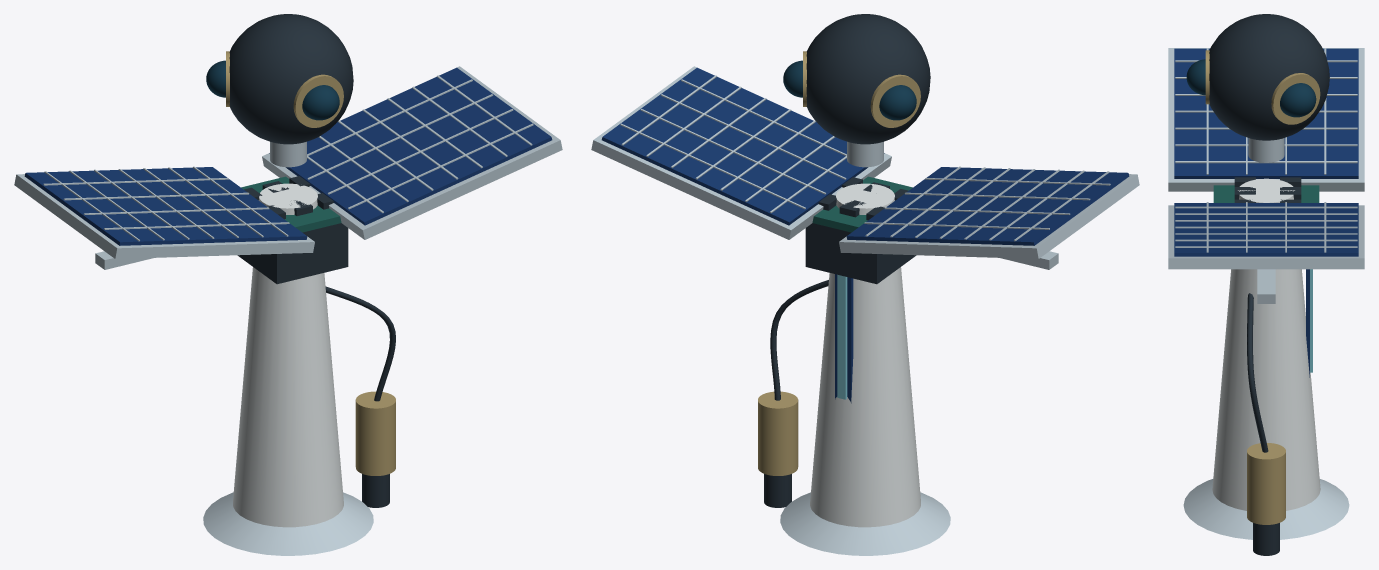
Rendered from deep.glb.
3 renders of one model, left to right at view 1: azimuth 30°, elevation 25°; view 2: azimuth 150°, elevation 25°; view 3: azimuth 270°, elevation 25°, orthographic. The views are drawn at different scales.
Parts seen in each view (by area): view 1: solar, mast, head, battery, probe; view 2: solar, mast, head, battery, probe; view 3: solar, mast, head, probe, battery.
Part boxes in pixels (left/top/right/bottom): solar: left=14, top=66, right=562, bottom=269; mast: left=203, top=183, right=373, bottom=555; head: left=206, top=14, right=353, bottom=167; battery: left=237, top=176, right=348, bottom=284; probe: left=325, top=286, right=395, bottom=507; solar: left=591, top=66, right=1139, bottom=269; mast: left=780, top=183, right=950, bottom=555; head: left=783, top=14, right=930, bottom=167; battery: left=805, top=176, right=916, bottom=284; probe: left=758, top=280, right=828, bottom=507; solar: left=1168, top=48, right=1364, bottom=303; mast: left=1183, top=178, right=1349, bottom=539; head: left=1186, top=14, right=1329, bottom=162; probe: left=1247, top=293, right=1285, bottom=555; battery: left=1213, top=177, right=1319, bottom=202.
Size of the model in its own units: 3.33 by 3.57 by 1.3.
